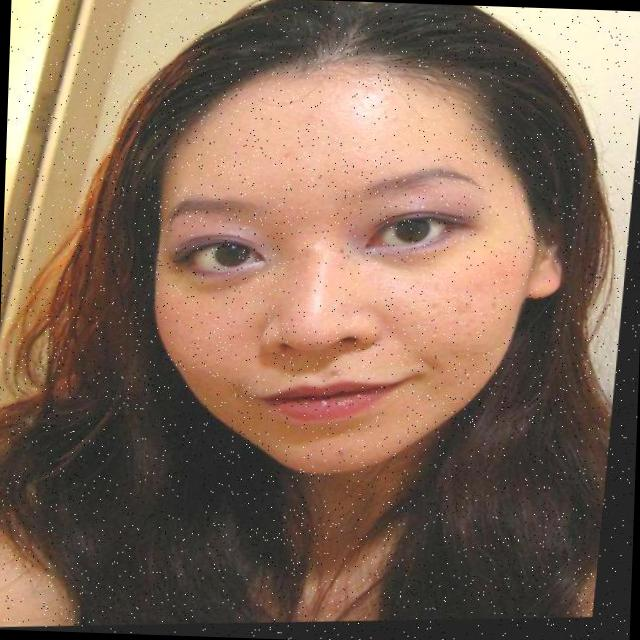redness: (283, 250, 353, 347)
